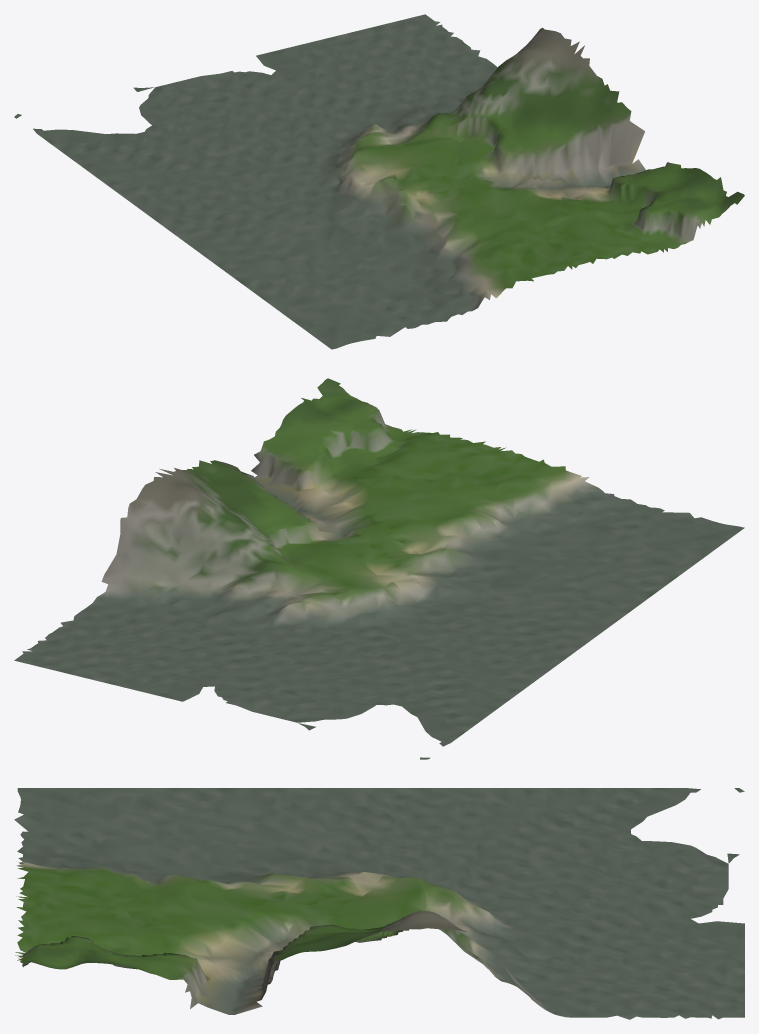
Rendered from coast_tile_x0z0_lod1.glb.
The picture shows the model from 3 angles, top to bottom: view 1: azimuth 30°, elevation 25°; view 2: azimuth 150°, elevation 25°; view 3: azimuth 270°, elevation 25°; orthographic projection. The views are drawn at different scales.
Parts seen in each view (by area): view 1: coast_tile_x0z0_lod1; view 2: coast_tile_x0z0_lod1; view 3: coast_tile_x0z0_lod1.
Boxes of the visible parts, x1,y1,x2,y2 form: coast_tile_x0z0_lod1: [14, 14, 744, 349]; coast_tile_x0z0_lod1: [14, 378, 744, 759]; coast_tile_x0z0_lod1: [14, 788, 744, 1019].
Bounding box in the file's own units: 612 × 110 × 808.
